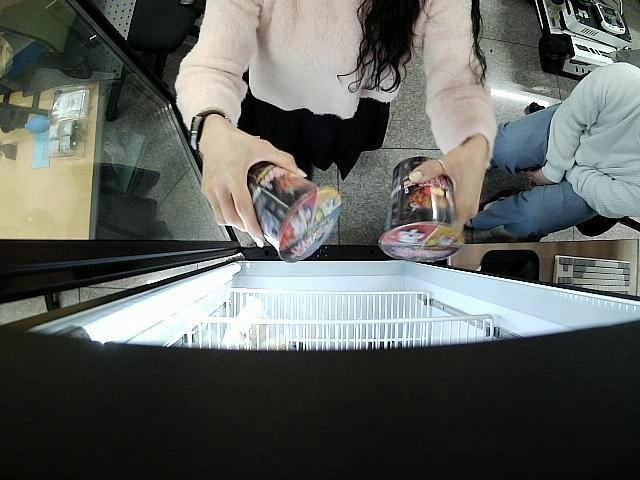08_buldak_S: (248, 162, 341, 262), (379, 155, 464, 262)
